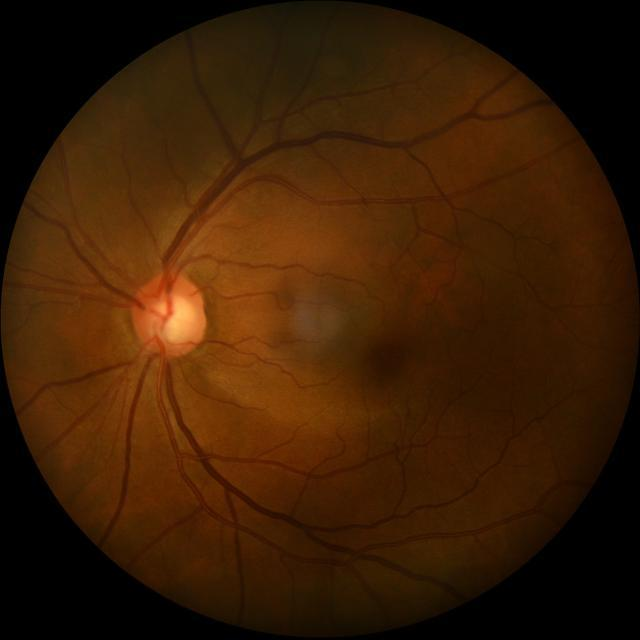OC: (147, 294, 195, 344)
OD: (130, 273, 206, 357)
